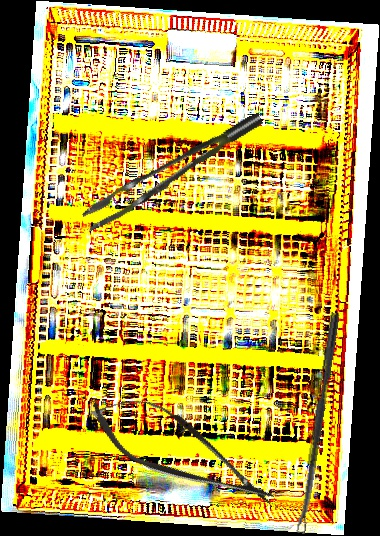Micro Scissor: (79, 377, 287, 527)
Surgical Spoon: (295, 312, 340, 534)
Tissue Forceps: (73, 112, 275, 232)
